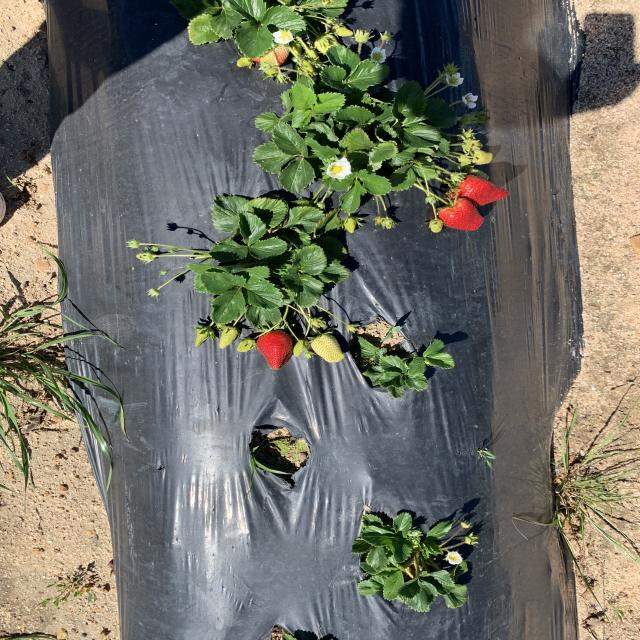unripe: (446, 173, 510, 207), (436, 195, 486, 232), (256, 331, 293, 370)
